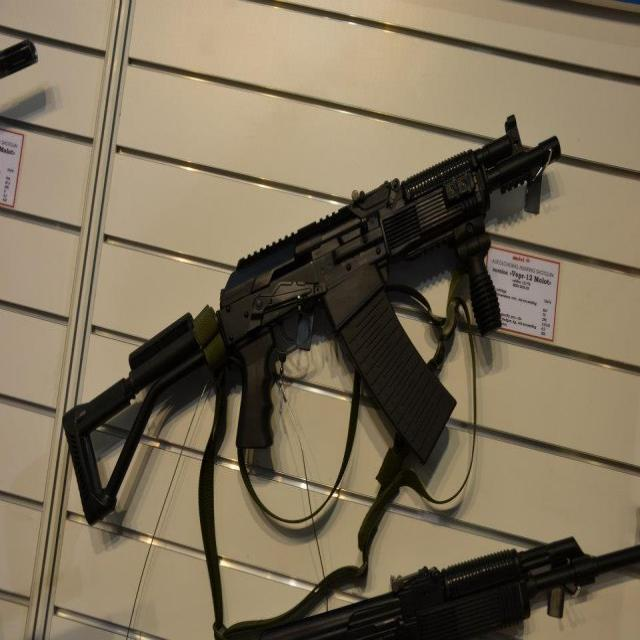firearm: (62, 109, 562, 536), (213, 533, 640, 640)
